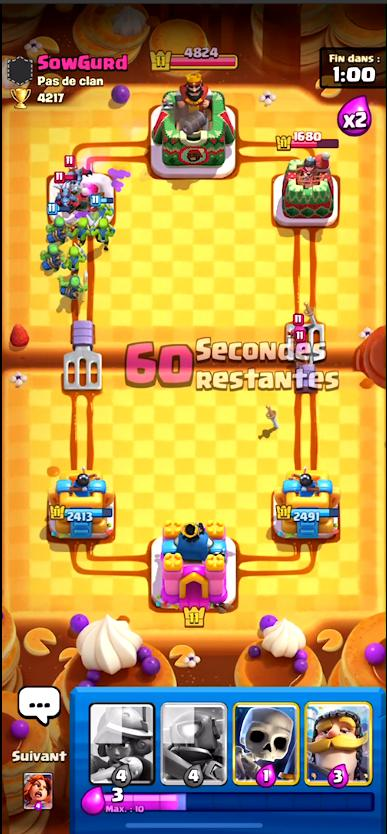archere: (288, 313, 311, 335)
gargouille: (61, 159, 90, 185), (54, 175, 77, 205)
gobelin: (63, 244, 88, 274), (95, 218, 114, 247), (74, 218, 93, 245), (94, 197, 117, 217)
gobelin_lances: (44, 203, 72, 243), (58, 271, 91, 301), (39, 242, 64, 273)
